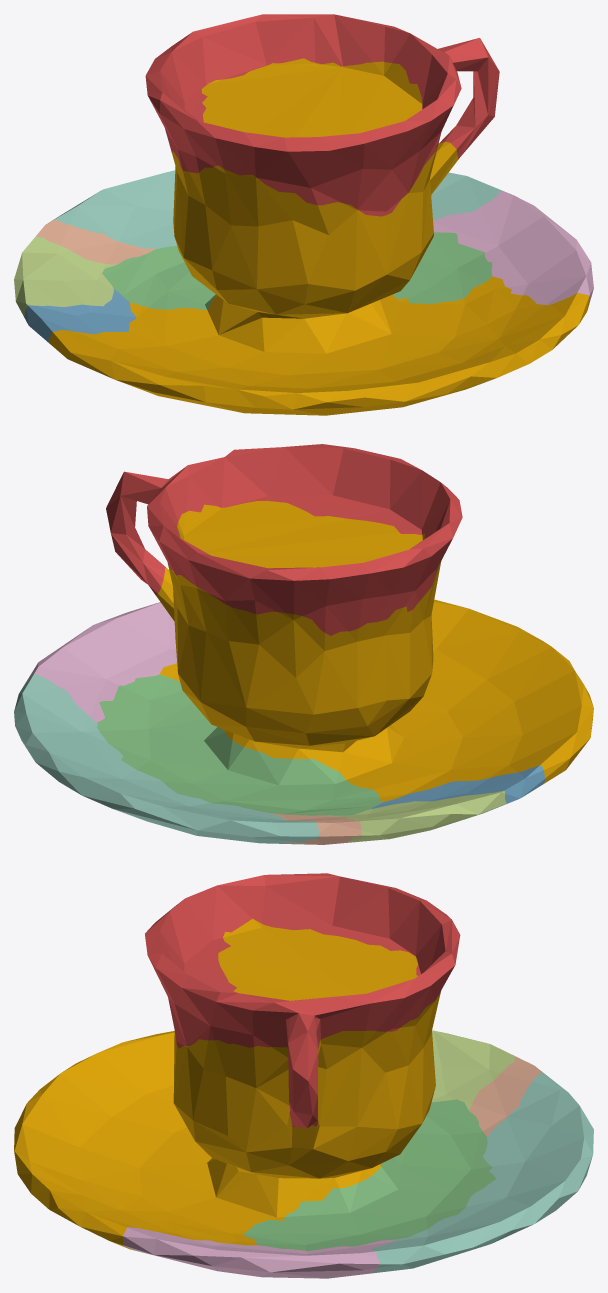
File: mode_16_8pcs.glb
3 views of the same model, one above another, from view 1: azimuth 30°, elevation 25°; view 2: azimuth 150°, elevation 25°; view 3: azimuth 270°, elevation 25° (orthographic).
Visible parts, largest first — view 1: piece_0.obj, piece_1.obj, piece_6.obj, piece_3.obj, piece_4.obj, piece_5.obj, piece_2.obj, piece_7.obj; view 2: piece_0.obj, piece_1.obj, piece_3.obj, piece_4.obj, piece_6.obj, piece_5.obj, piece_2.obj, piece_7.obj; view 3: piece_0.obj, piece_1.obj, piece_3.obj, piece_4.obj, piece_6.obj, piece_5.obj, piece_7.obj.
Part boxes in pixels (bbox=[...]): piece_0.obj: bbox=[48, 58, 589, 415]; piece_1.obj: bbox=[145, 14, 499, 216]; piece_6.obj: bbox=[433, 190, 593, 304]; piece_3.obj: bbox=[102, 232, 492, 309]; piece_4.obj: bbox=[53, 170, 501, 249]; piece_5.obj: bbox=[14, 236, 116, 316]; piece_2.obj: bbox=[24, 289, 136, 342]; piece_7.obj: bbox=[36, 219, 154, 264]; piece_0.obj: bbox=[156, 501, 593, 802]; piece_1.obj: bbox=[106, 444, 462, 635]; piece_3.obj: bbox=[97, 674, 382, 815]; piece_4.obj: bbox=[14, 673, 319, 843]; piece_6.obj: bbox=[26, 602, 176, 722]; piece_5.obj: bbox=[327, 790, 506, 842]; piece_2.obj: bbox=[371, 765, 544, 813]; piece_7.obj: bbox=[270, 813, 362, 844]; piece_0.obj: bbox=[14, 918, 440, 1250]; piece_1.obj: bbox=[145, 873, 460, 1128]; piece_3.obj: bbox=[244, 1099, 495, 1250]; piece_4.obj: bbox=[371, 1072, 593, 1272]; piece_6.obj: bbox=[122, 1227, 396, 1278]; piece_5.obj: bbox=[431, 1030, 515, 1110]; piece_7.obj: bbox=[469, 1057, 543, 1136].
Size of the model in its own units: 1 by 0.5219 by 0.9975.
